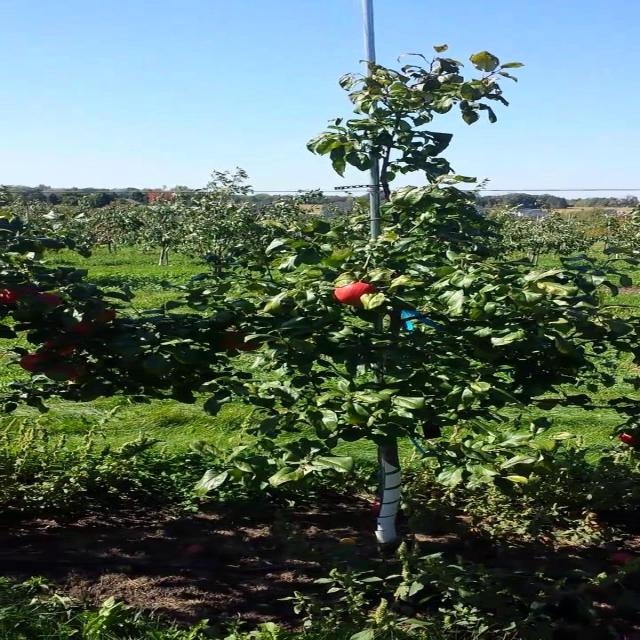apple: (340, 284, 380, 308), (20, 356, 52, 372), (49, 340, 78, 356), (49, 368, 80, 381), (227, 332, 247, 351), (42, 292, 64, 308), (220, 336, 242, 351), (92, 312, 119, 324), (618, 432, 639, 447), (13, 288, 41, 298), (70, 324, 94, 335), (241, 340, 263, 352), (6, 292, 21, 307)
